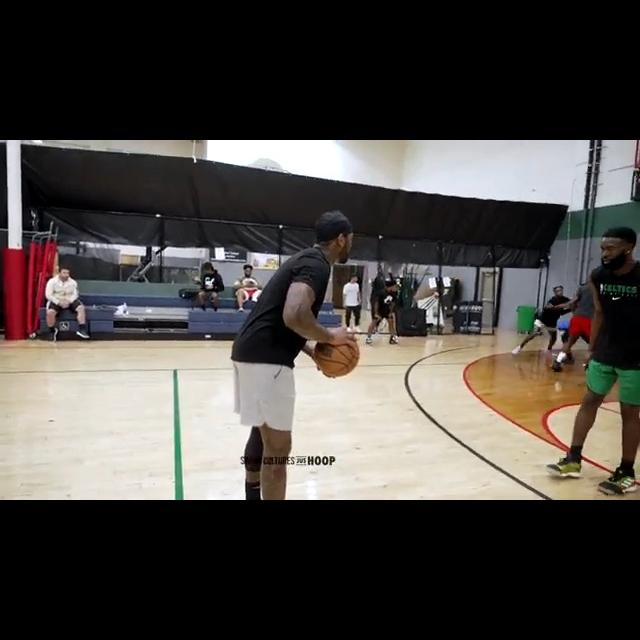basketball: (315, 336, 359, 378)
